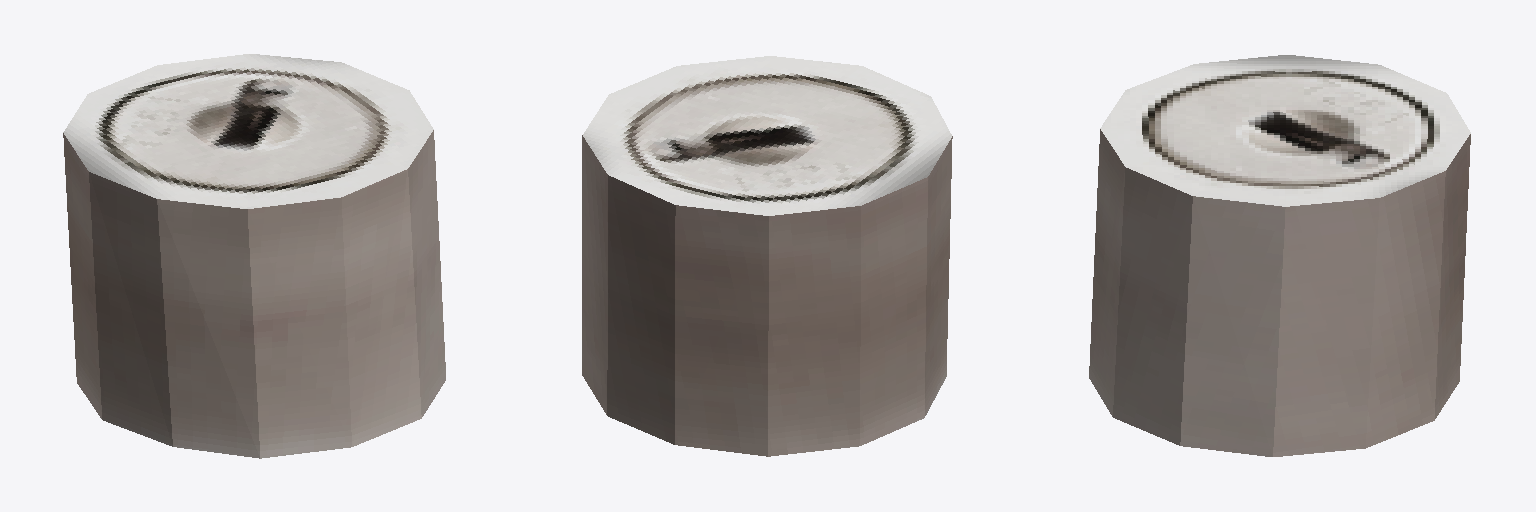
3 renders of one model, left to right at view 1: azimuth 30°, elevation 25°; view 2: azimuth 150°, elevation 25°; view 3: azimuth 270°, elevation 25°, orthographic.
Visible parts, largest first — view 1: A14; view 2: A14; view 3: A14.
Boxes of the visible parts, <box> form: A14: <box>63,54,445,458</box>; A14: <box>582,56,952,456</box>; A14: <box>1089,55,1470,456</box>.
Size of the model in its own units: 0.0269 by 0.0197 by 0.0272.
Materials: 1 (1 with a texture image).